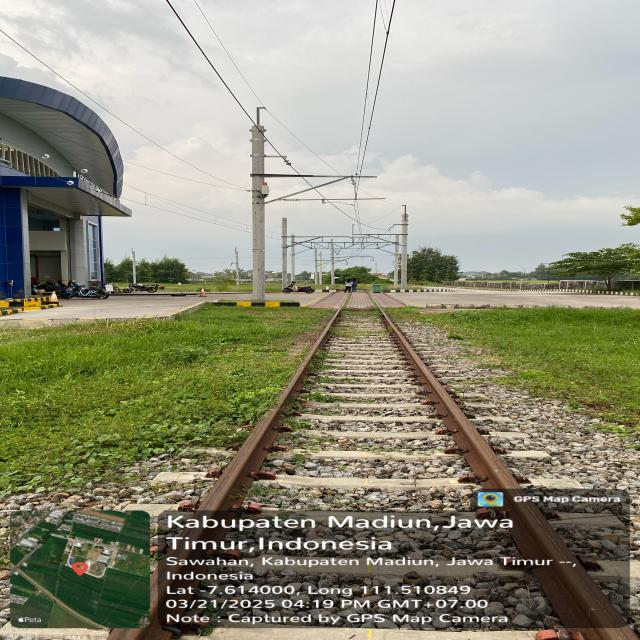rail-detection: (385, 314, 635, 640), (199, 310, 339, 515)
